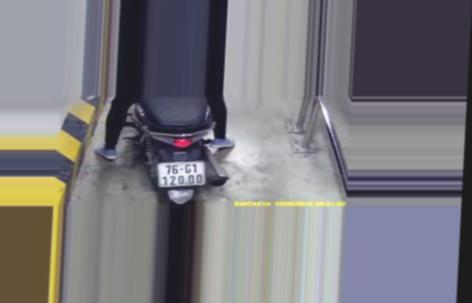License_Plate: (152, 159, 210, 192)
